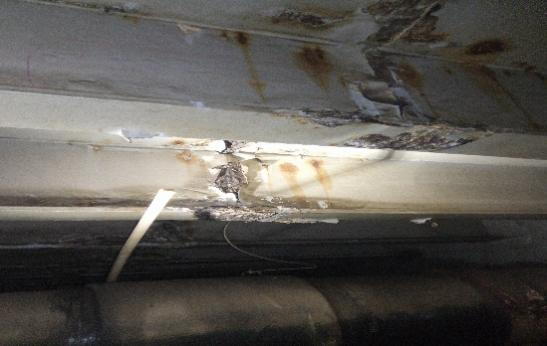corrosion: (342, 42, 428, 117), (475, 68, 540, 128), (360, 0, 447, 43), (230, 29, 271, 109), (353, 128, 483, 151), (268, 5, 357, 38), (189, 193, 292, 218), (205, 150, 262, 195), (284, 40, 333, 89), (292, 103, 358, 133), (464, 35, 514, 60), (273, 160, 305, 197), (165, 136, 199, 163), (310, 160, 334, 194)
